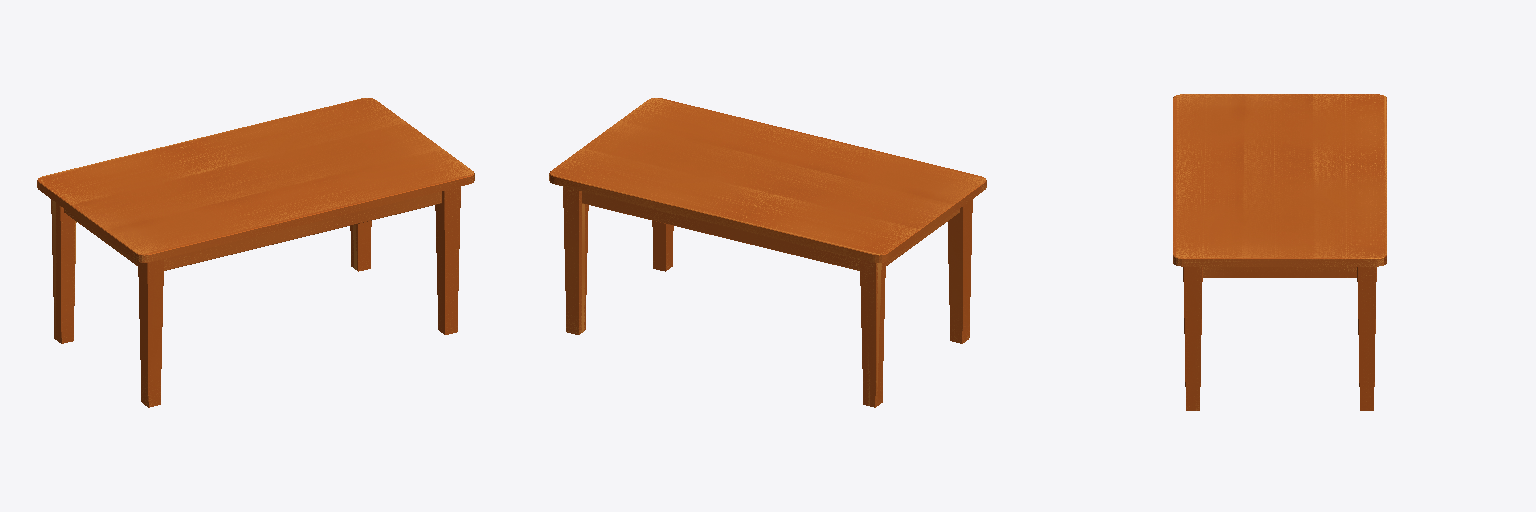
The picture shows the model from 3 angles: view 1: azimuth 30°, elevation 25°; view 2: azimuth 150°, elevation 25°; view 3: azimuth 270°, elevation 25°; orthographic projection.
Visible parts, largest first — view 1: oMesa:Table; view 2: oMesa:Table; view 3: oMesa:Table.
Boxes of the visible parts, x1,y1,x2,y2 form: oMesa:Table: [37, 98, 474, 407]; oMesa:Table: [549, 98, 986, 407]; oMesa:Table: [1173, 94, 1386, 410].
Bounding box in the file's own units: 5.88 × 2.65 × 3.23.
1 materials, 1 textured.